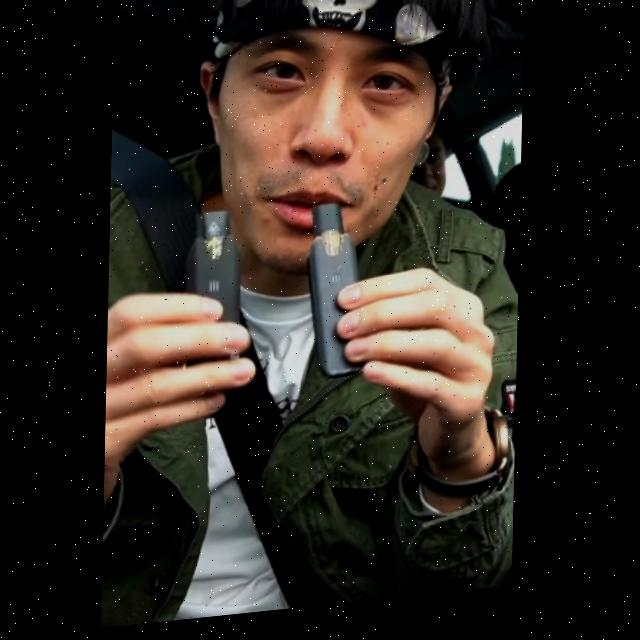vape: (305, 209, 366, 389), (182, 213, 243, 369)
